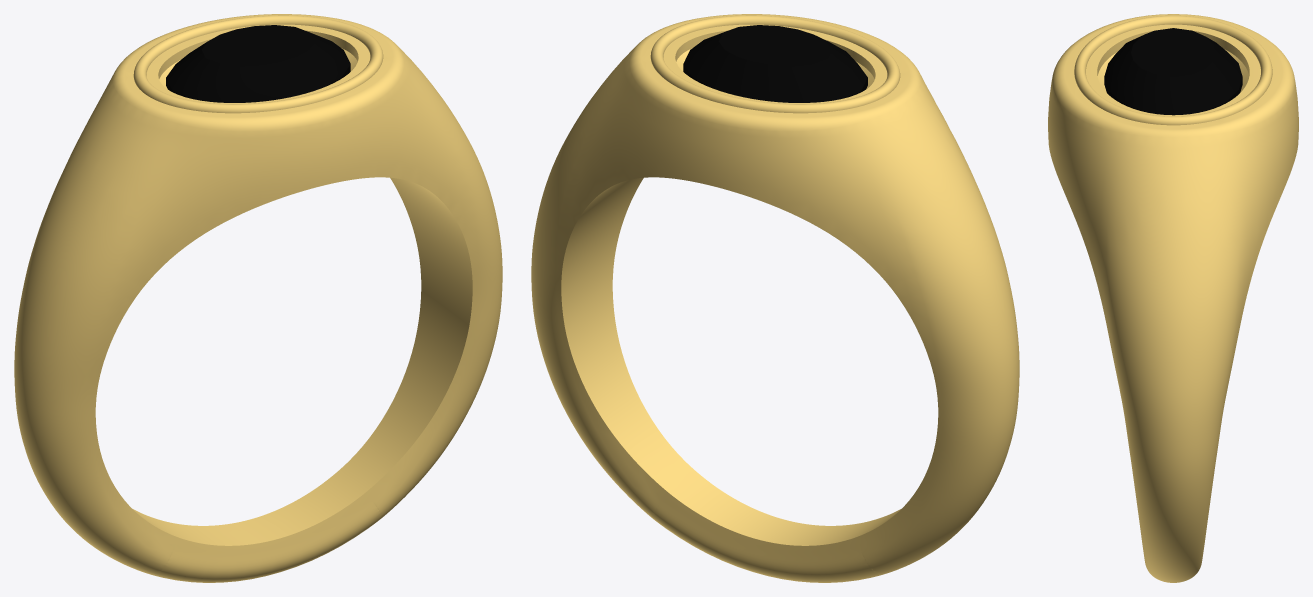
3 renders of one model, left to right at view 1: azimuth 30°, elevation 25°; view 2: azimuth 150°, elevation 25°; view 3: azimuth 270°, elevation 25°, orthographic. The views are drawn at different scales.
Visible parts, largest first — view 1: Caroline Platt YG for 3d model, Caroline Platt onyx for 3d model; view 2: Caroline Platt YG for 3d model, Caroline Platt onyx for 3d model; view 3: Caroline Platt YG for 3d model, Caroline Platt onyx for 3d model.
Boxes of the visible parts, box(x1,y1,x2,y2) form: Caroline Platt YG for 3d model: box(14, 14, 502, 582); Caroline Platt onyx for 3d model: box(166, 25, 350, 102); Caroline Platt YG for 3d model: box(531, 14, 1019, 582); Caroline Platt onyx for 3d model: box(683, 25, 867, 102); Caroline Platt YG for 3d model: box(1048, 14, 1298, 582); Caroline Platt onyx for 3d model: box(1104, 28, 1242, 115).
Bounding box in the file's own units: 20.9 × 22.17 × 9.98.
